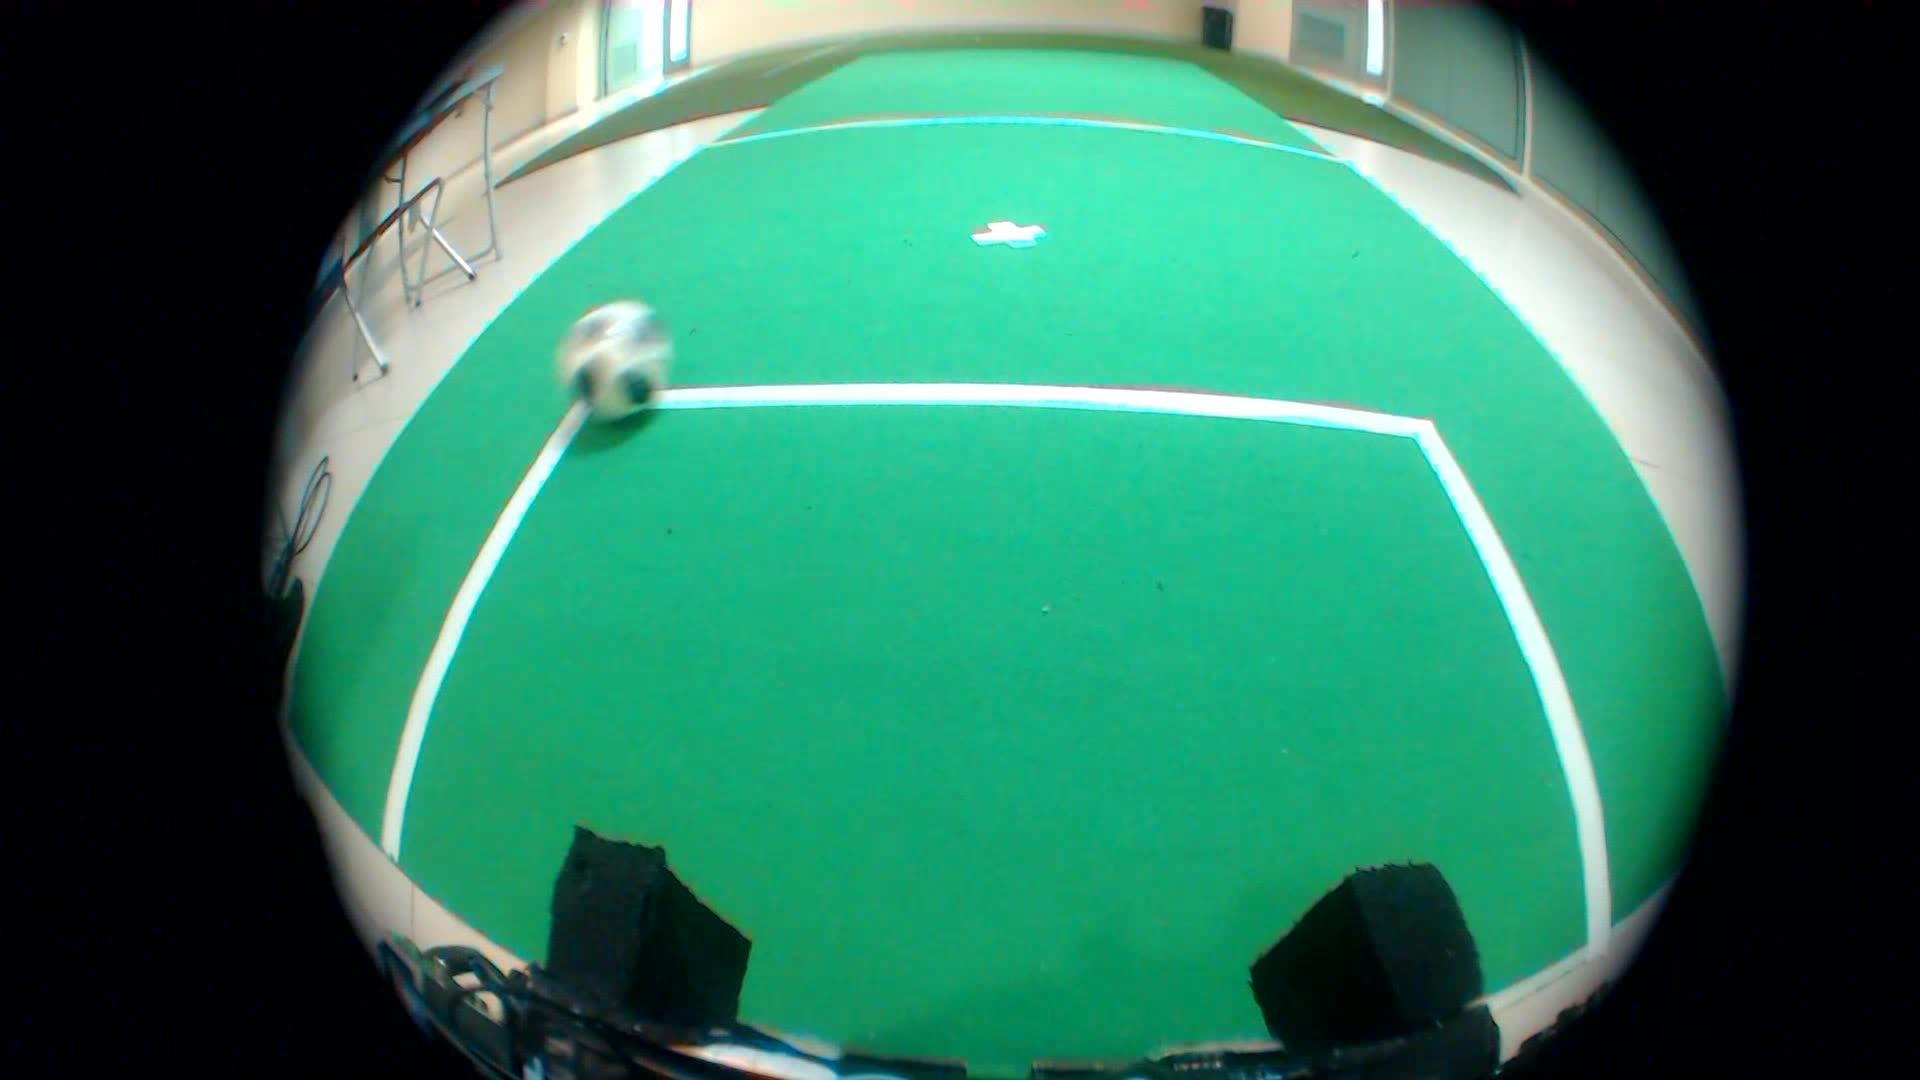ball: (555, 298, 688, 431)
